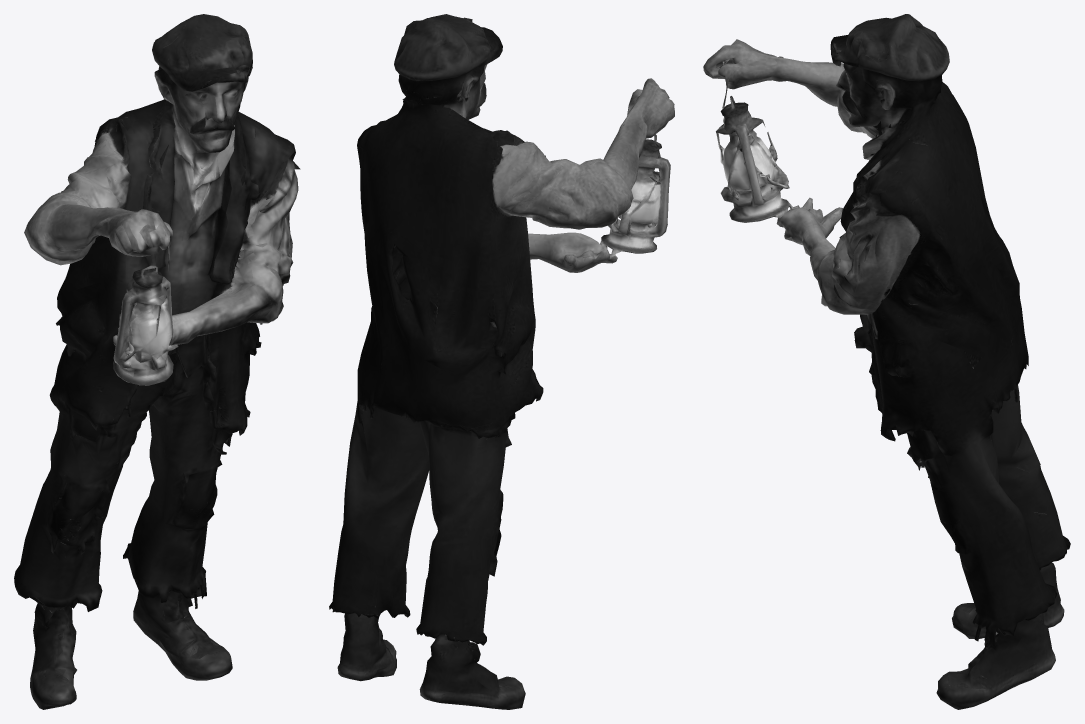
File: walter.glb
The picture shows the model from 3 angles, left to right: view 1: azimuth 30°, elevation 25°; view 2: azimuth 150°, elevation 25°; view 3: azimuth 270°, elevation 25°; orthographic projection. The views are drawn at different scales.
Parts seen in each view (by area): view 1: RETOPO, glow; view 2: RETOPO, glow; view 3: RETOPO, glow.
Boxes of the visible parts, box(x1,y1,x2,y2) form: RETOPO: box(14, 14, 300, 709); glow: box(119, 302, 177, 369); RETOPO: box(329, 14, 674, 709); glow: box(608, 183, 659, 241); RETOPO: box(703, 14, 1070, 709); glow: box(720, 139, 780, 212).
Bounding box in the file's own units: 0.7265 × 1.74 × 0.8655.
Materials: 1 (1 with a texture image).
